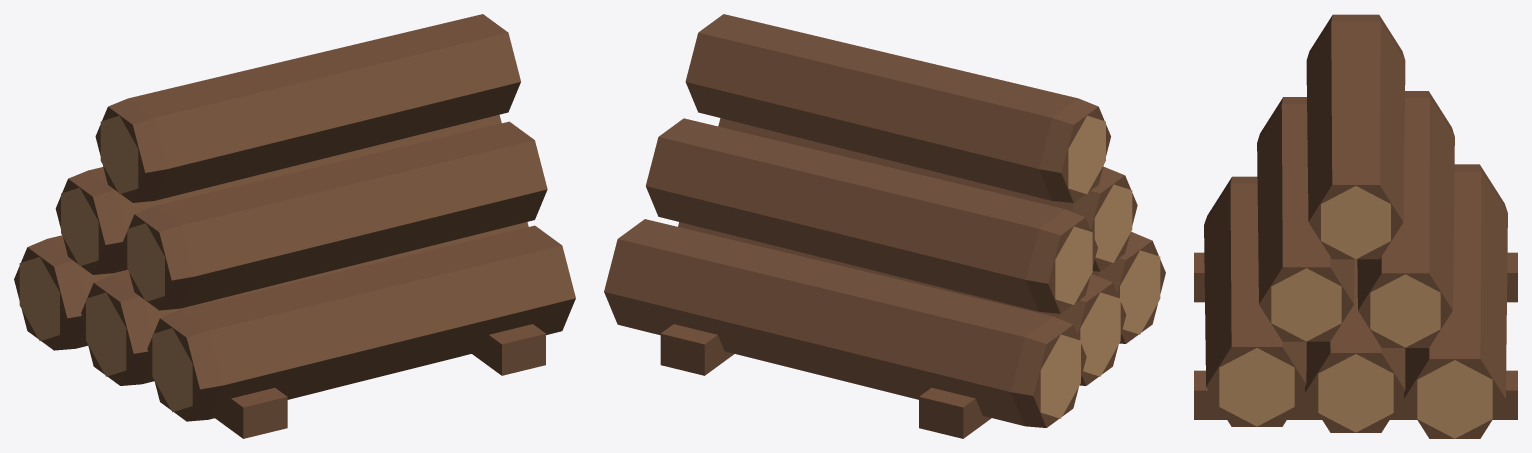
The model's file is Survact-madera-entregada-v01.glb.
The picture shows the model from 3 angles, left to right: view 1: azimuth 30°, elevation 25°; view 2: azimuth 150°, elevation 25°; view 3: azimuth 270°, elevation 25°; orthographic projection. The views are drawn at different scales.
Parts seen in each view (by area): view 1: Logs; view 2: Logs; view 3: Logs.
Boxes of the visible parts, x1,y1,x2,y2 form: Logs: (14,14,575,438); Logs: (604,14,1165,438); Logs: (1194,14,1517,438).
Size of the model in its own units: 0.516 by 0.3106 by 0.36.
